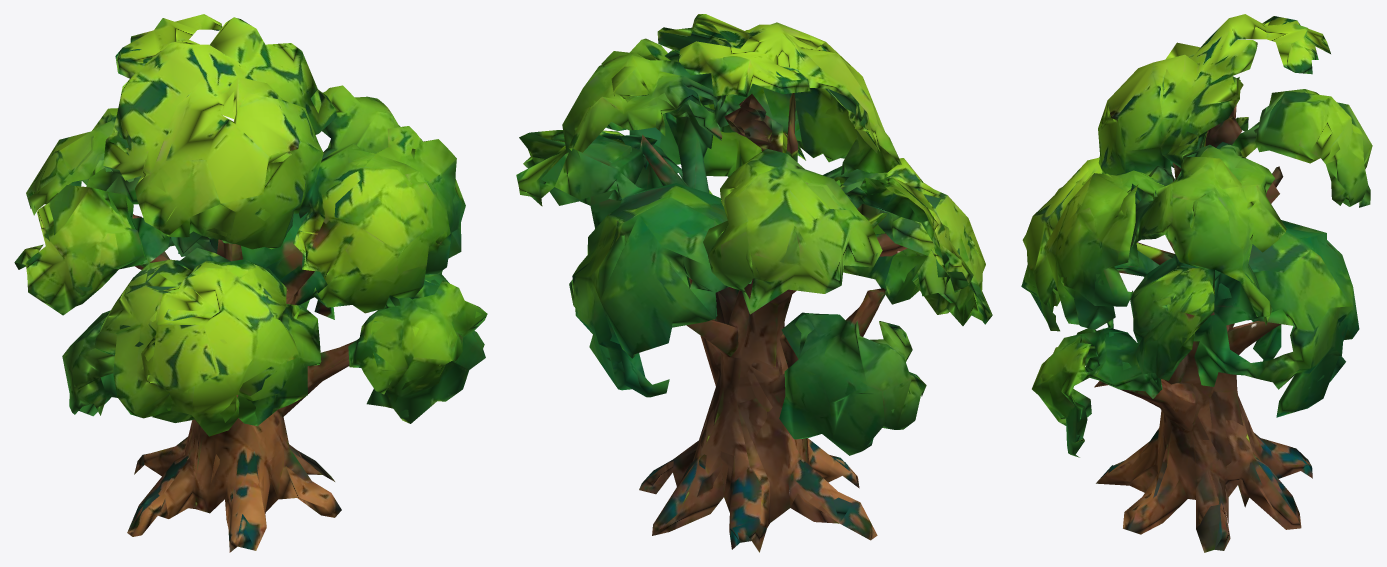
The model's file is tree_meadow_oak.glb.
The picture shows the model from 3 angles, left to right: view 1: azimuth 30°, elevation 25°; view 2: azimuth 150°, elevation 25°; view 3: azimuth 270°, elevation 25°; orthographic projection. The views are drawn at different scales.
Parts seen in each view (by area): view 1: BakeLow; view 2: BakeLow; view 3: BakeLow.
Boxes of the visible parts, x1,y1,x2,y2 form: BakeLow: (14,14,487,552); BakeLow: (516,14,992,552); BakeLow: (1021,14,1372,552).
Bounding box in the file's own units: 0.8408 × 0.8914 × 0.5968.
1 material, 1 textured.
